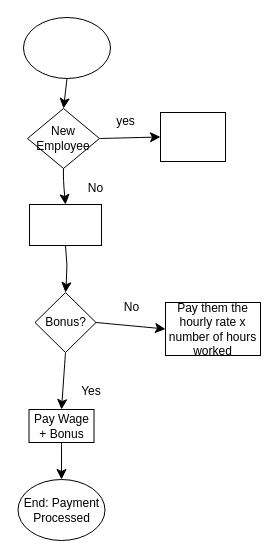
This 278x558 diagram has some shape labels left out. Here are the shapes that lost their labels. From the top down, the centre of each, then its label:
At pixel 66 47: "Start: No. Hours Worked".
At pixel 193 137: "Create new Employee for payroll".
At pixel 65 225: "Input hours into system".
